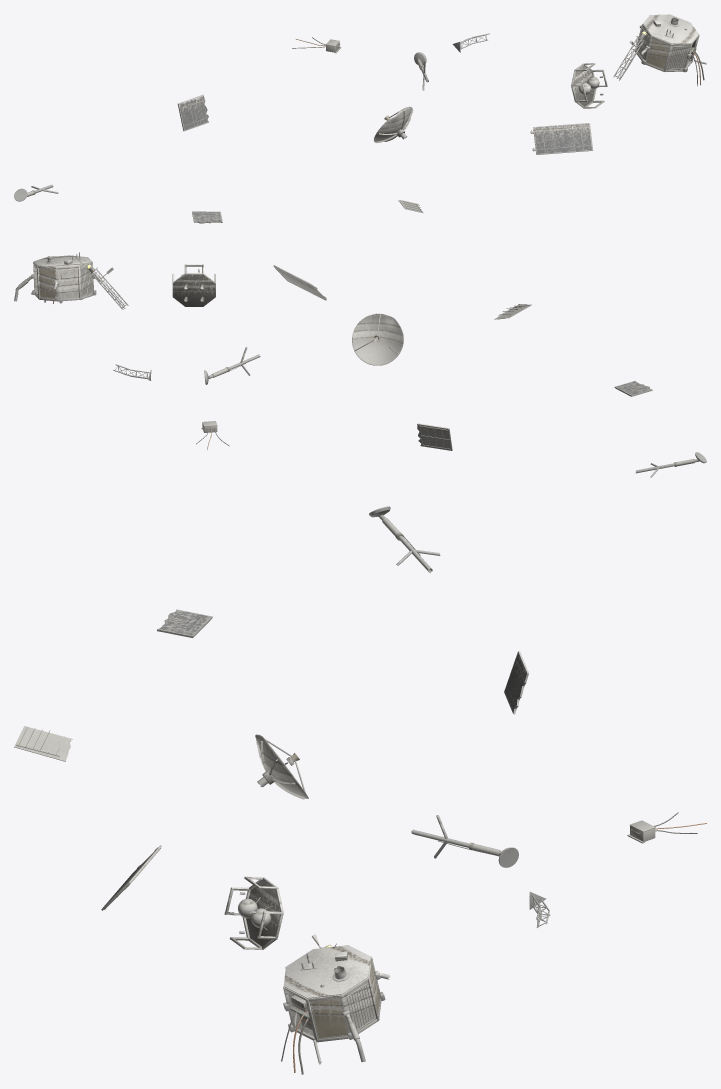
Rendered from probe_wreck.glb.
3 views of the same model, one above another, from view 1: azimuth 30°, elevation 25°; view 2: azimuth 150°, elevation 25°; view 3: azimuth 270°, elevation 25° (orthographic). The views are drawn at different scales.
Parts seen in each view (by area): view 1: wr_bus, wr_solar_A, wr_propulsion, wr_dish, wr_solar_B1, wr_mast_top, wr_solar_B2; view 2: wr_bus, wr_dish, wr_propulsion, wr_solar_B1, wr_mast_top, wr_solar_A, wr_leg_C, wr_leg_B; view 3: wr_bus, wr_propulsion, wr_dish, wr_frag_1, wr_leg_B, wr_solar_B2.
Boxes of the visible parts, x1,y1,x2,y2 form: wr_bus: (634,14,706,86); wr_solar_A: (530,123,593,154); wr_propulsion: (571,63,607,108); wr_dish: (374,106,413,142); wr_solar_B1: (177,94,208,131); wr_mast_top: (613,20,653,80); wr_solar_B2: (192,211,222,223); wr_bus: (14,252,100,303); wr_dish: (352,313,403,365); wr_propulsion: (172,264,215,306); wr_solar_B1: (417,423,452,450); wr_mast_top: (76,257,128,309); wr_solar_A: (273,265,326,300); wr_leg_C: (635,452,706,477); wr_leg_B: (204,347,260,384); wr_bus: (281,945,390,1074); wr_propulsion: (224,876,283,949); wr_dish: (255,734,308,799); wr_frag_1: (14,726,72,761); wr_leg_B: (411,815,518,867); wr_solar_B2: (157,609,212,637).
Size of the model in its own units: 18.91 by 1.7 by 10.44.
Materials: 4 (2 with a texture image).
